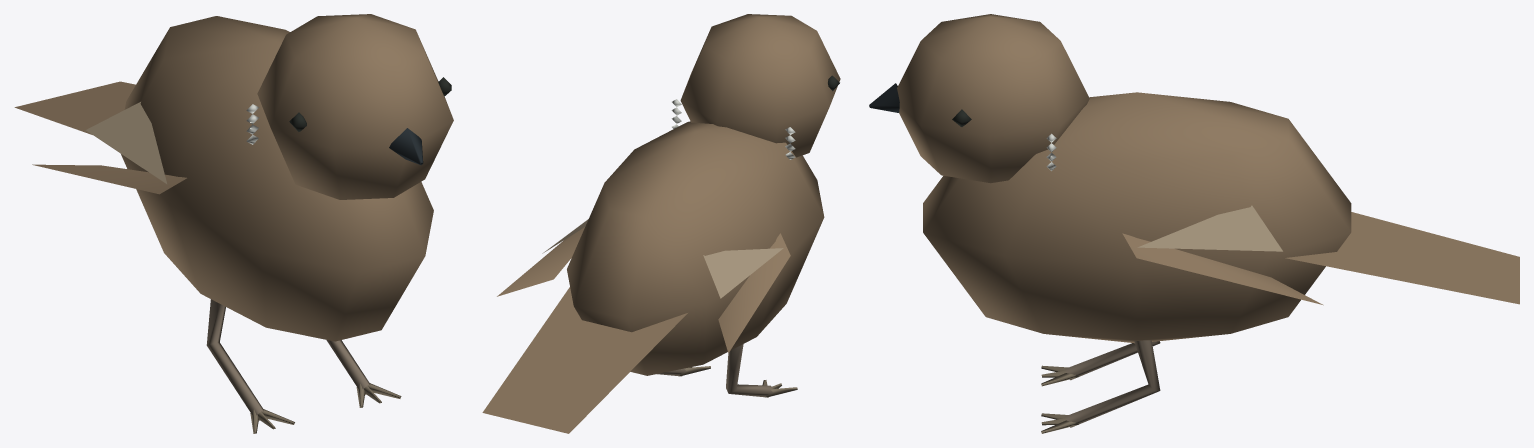
File: dove-0.glb
3 renders of one model, left to right at view 1: azimuth 30°, elevation 25°; view 2: azimuth 150°, elevation 25°; view 3: azimuth 270°, elevation 25°, orthographic. The views are drawn at different scales.
Visible parts, largest first — view 1: dove; view 2: dove; view 3: dove.
Boxes of the visible parts, x1,y1,x2,y2 form: dove: (14, 14, 453, 433); dove: (482, 14, 840, 433); dove: (869, 14, 1519, 433).
Bounding box in the file's own units: 0.1742 × 0.2467 × 0.3758.
